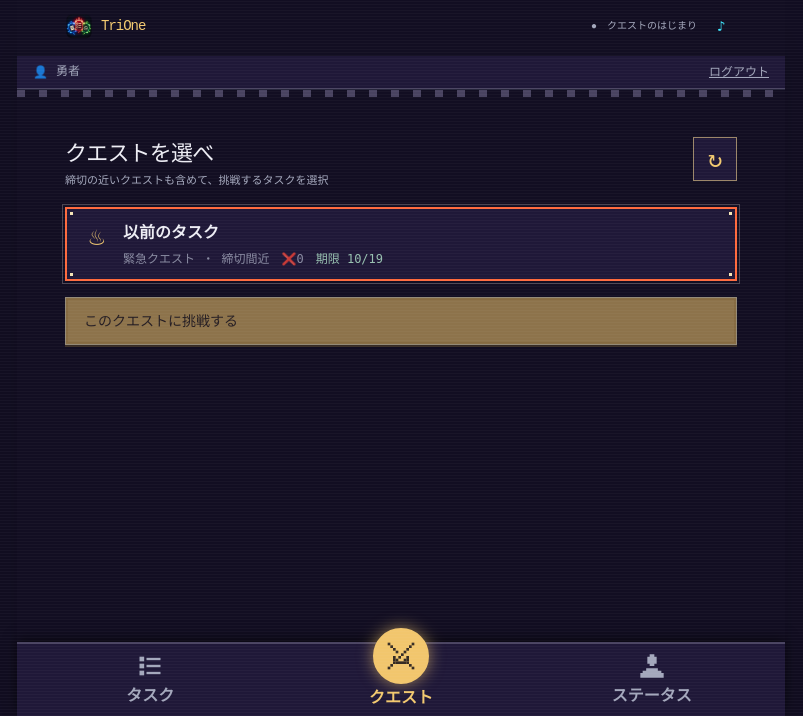
Scenario: ローカル抽選と確認済みキャッシュ › 表示後に期限が切れた候補は、DB開始リクエスト前に再確認を求める
Expected: the button named "再抽選する" is enabled, [693,137,737,181]
Click the radio button: (171, 232) [65,207,737,281]
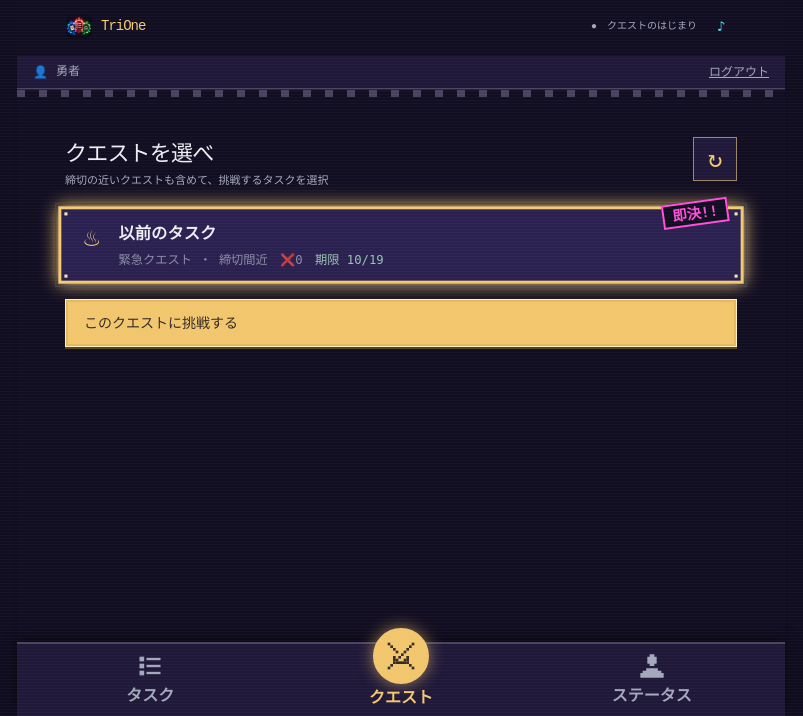
Click the button "このクエストに挑戦する": (161, 323) [65,299,737,347]
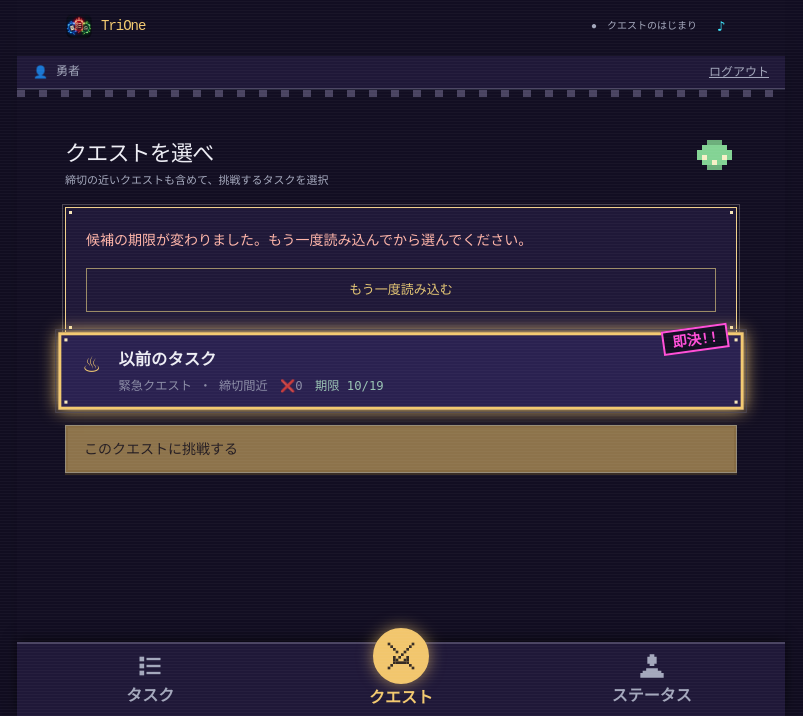
Expected: the message shows "候補の期限が変わりました", [86,232,532,248]
